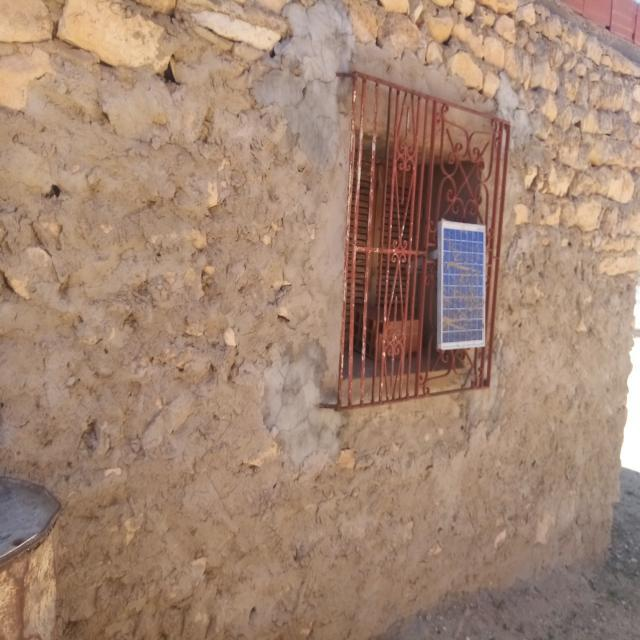faulty: (441, 221, 486, 348)
